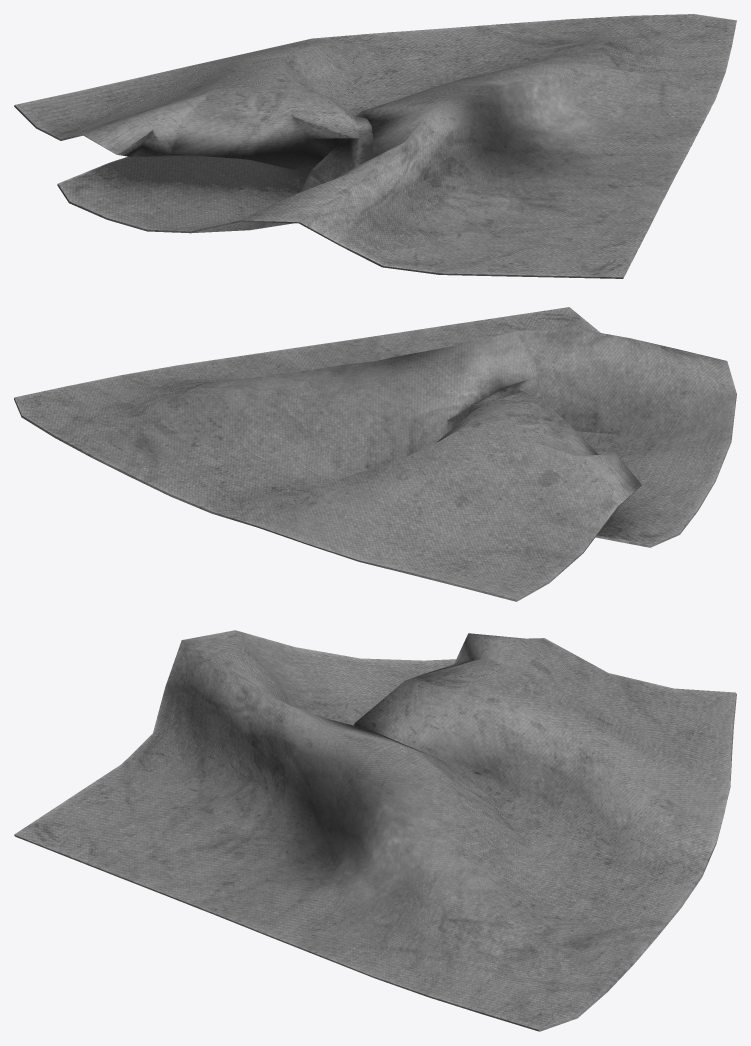
File: Rag01_2.FBX
The picture shows the model from 3 angles, top to bottom: view 1: azimuth 30°, elevation 25°; view 2: azimuth 150°, elevation 25°; view 3: azimuth 270°, elevation 25°; orthographic projection. The views are drawn at different scales.
Visible parts, largest first — view 1: Rag01_2_LOD0; view 2: Rag01_2_LOD0; view 3: Rag01_2_LOD0.
Part boxes in pixels (x1,y1,x2,y2): Rag01_2_LOD0: (14,14,736,278); Rag01_2_LOD0: (14,307,736,601); Rag01_2_LOD0: (14,630,736,1031).
Size of what is drawn, in the model's own units: 20.99 by 2.7 by 17.52.
